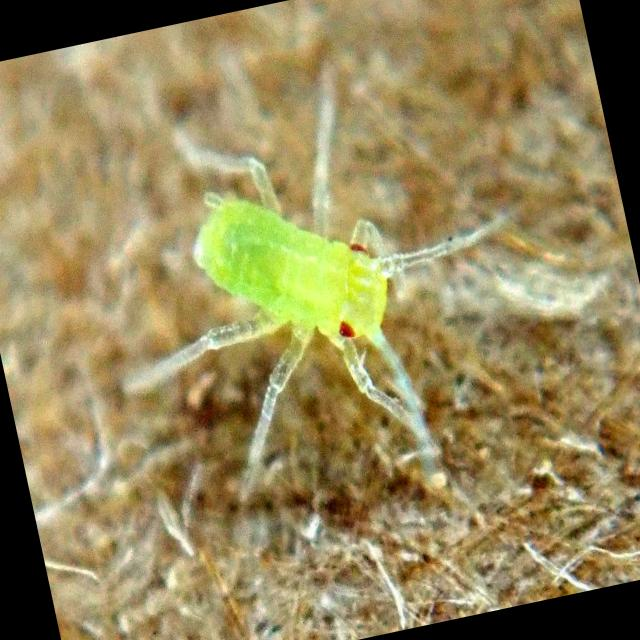Aphids: (59, 64, 545, 570)
